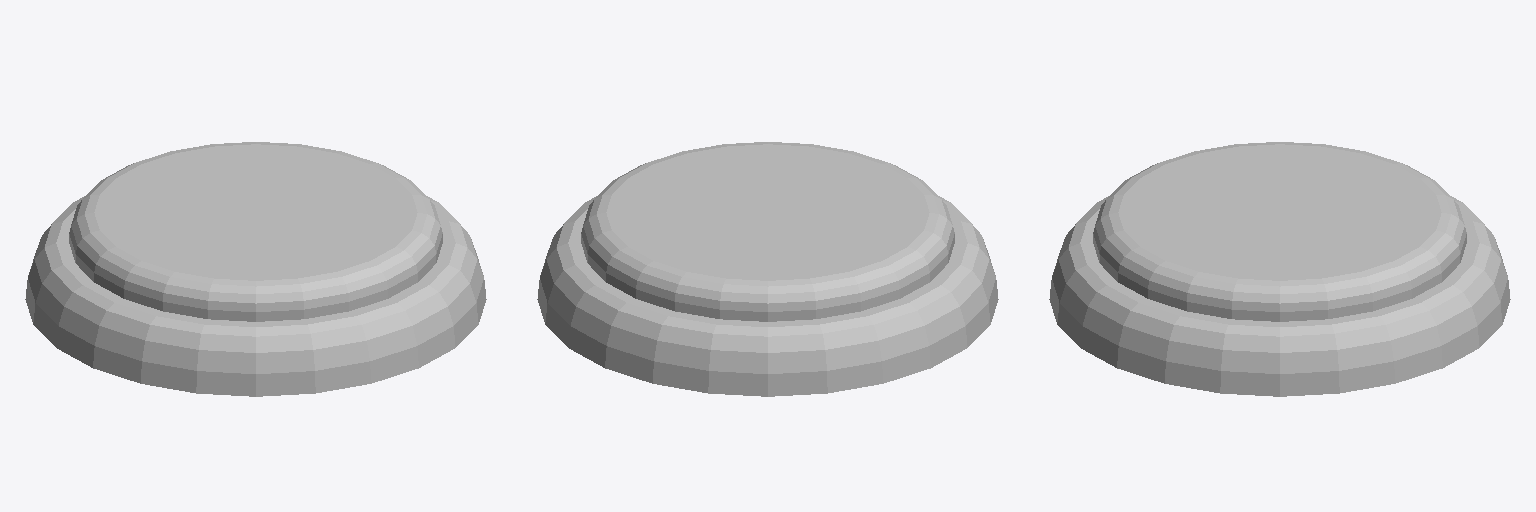
File: button_teamYellow.obj
3 renders of one model, left to right at view 1: azimuth 30°, elevation 25°; view 2: azimuth 150°, elevation 25°; view 3: azimuth 270°, elevation 25°, orthographic.
Parts seen in each view (by area): view 1: button_teamYellow_Cube.039; view 2: button_teamYellow_Cube.039; view 3: button_teamYellow_Cube.039.
Boxes of the visible parts, x1,y1,x2,y2 form: button_teamYellow_Cube.039: [25, 142, 486, 396]; button_teamYellow_Cube.039: [537, 142, 998, 396]; button_teamYellow_Cube.039: [1049, 142, 1510, 396].
Size of the model in its own units: 1.63 by 0.3395 by 1.63.